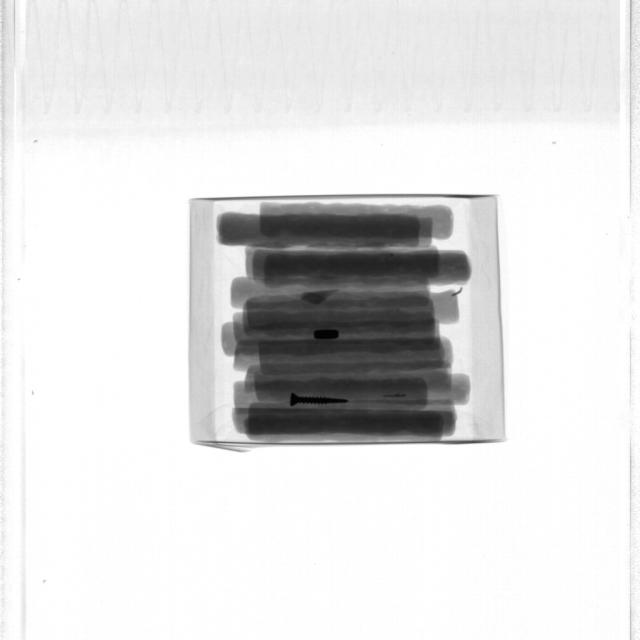ym: (291, 392, 350, 406), (302, 288, 340, 305), (314, 330, 340, 340), (382, 393, 408, 399), (452, 288, 463, 298), (390, 254, 394, 258)
